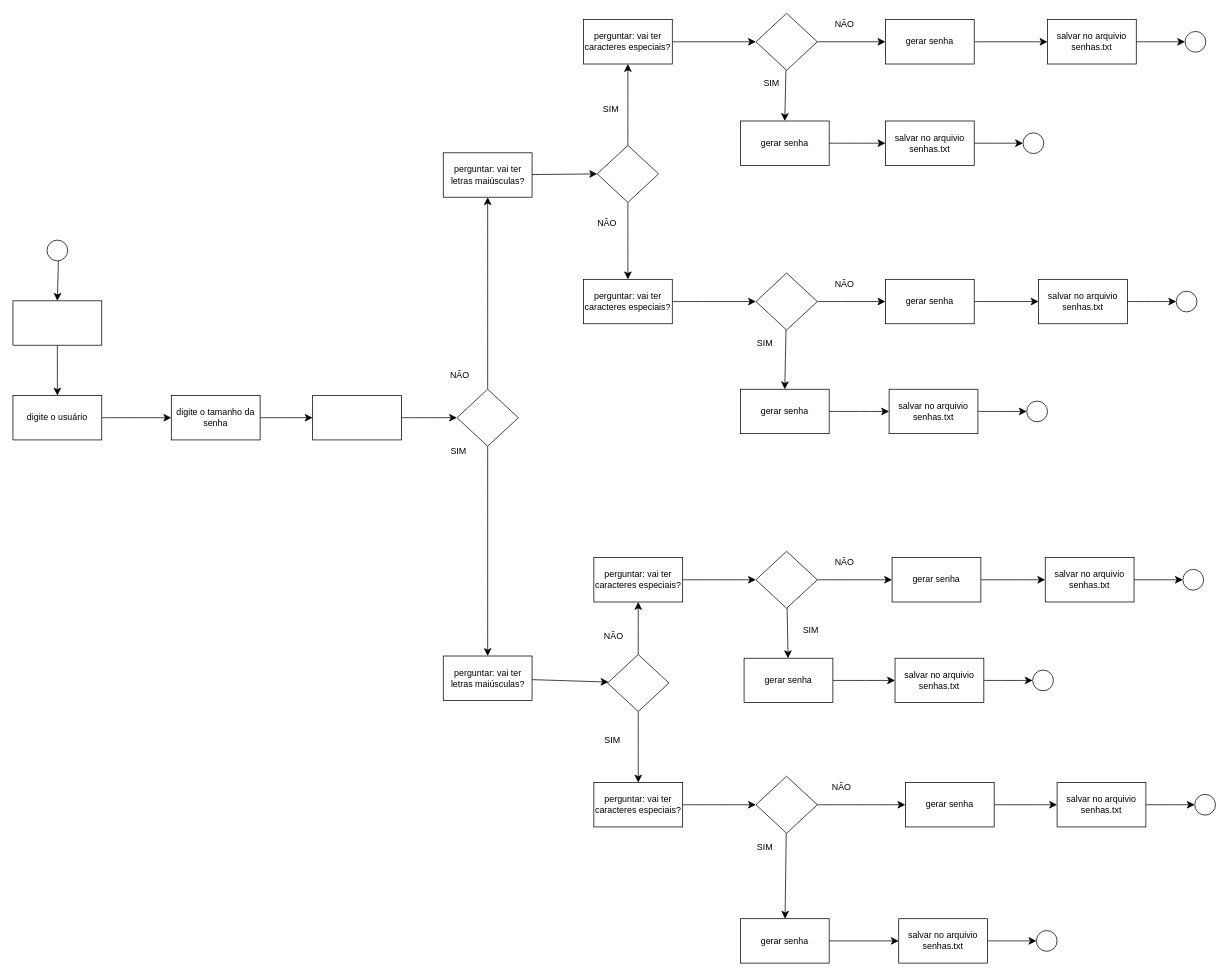
The diagram is 1228 pixels wide and 976 high, and some of its shapes have lost their labels. Here are the shapes that lost their labels. From the top down, the box of each, then its label:
(12, 300, 102, 345): digite um nome para qual vai ser designado a senha
(312, 395, 401, 440): perguntar: vai ter numeros?
